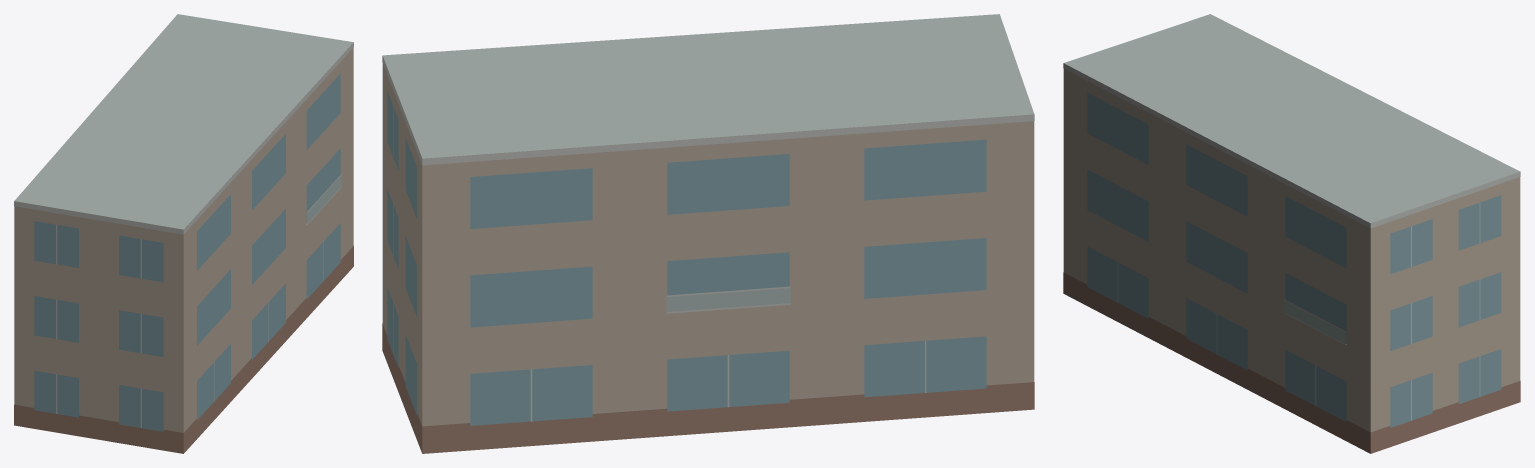
File: survey-upis-32840125.glb
The picture shows the model from 3 angles, left to right: view 1: azimuth 30°, elevation 25°; view 2: azimuth 150°, elevation 25°; view 3: azimuth 270°, elevation 25°; orthographic projection. The views are drawn at different scales.
Visible parts, largest first — view 1: survey-upis-32840125.tmp; view 2: survey-upis-32840125.tmp; view 3: survey-upis-32840125.tmp.
Part boxes in pixels (box(x1,y1,x2,y2)): survey-upis-32840125.tmp: box(14, 14, 353, 453); survey-upis-32840125.tmp: box(382, 14, 1034, 453); survey-upis-32840125.tmp: box(1063, 14, 1520, 453).
Bounding box in the file's own units: 21.05 × 10.8 × 19.41.
